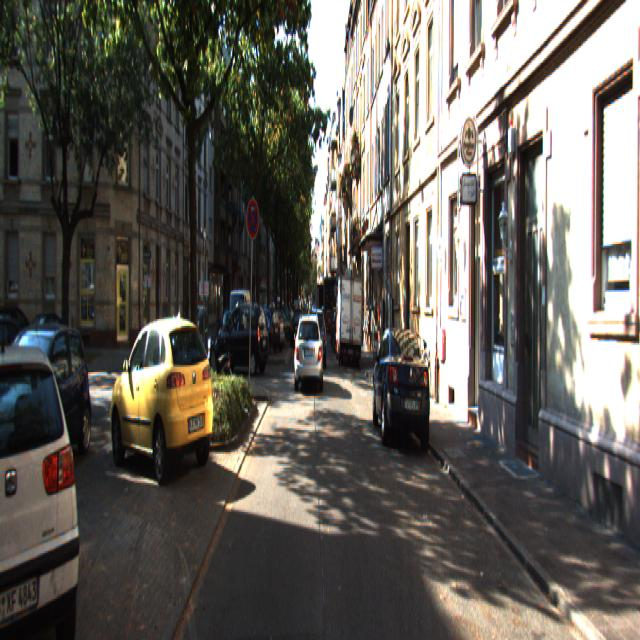Car: (0, 338, 90, 638), (109, 312, 217, 492), (0, 324, 95, 488), (370, 320, 435, 455), (213, 297, 270, 373), (0, 314, 31, 412), (294, 310, 324, 388), (306, 308, 326, 368)
DontCare: (252, 293, 291, 354)
Misc: (202, 323, 234, 408)
Van: (335, 272, 364, 362)
